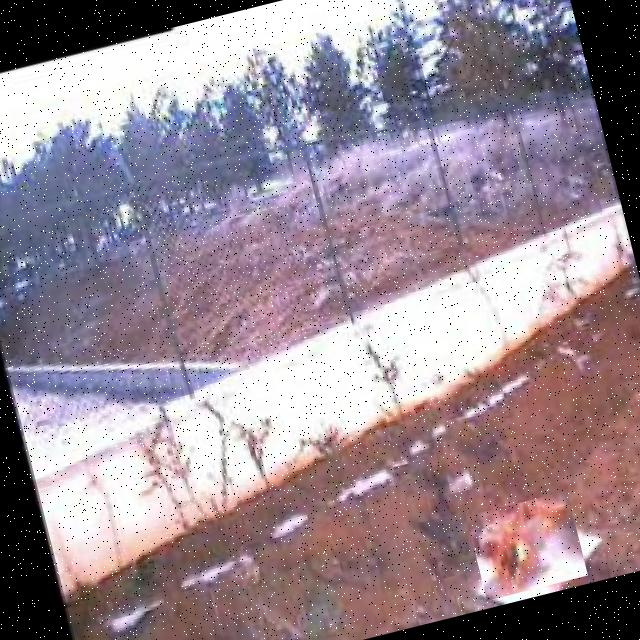fire: (466, 490, 588, 600)
